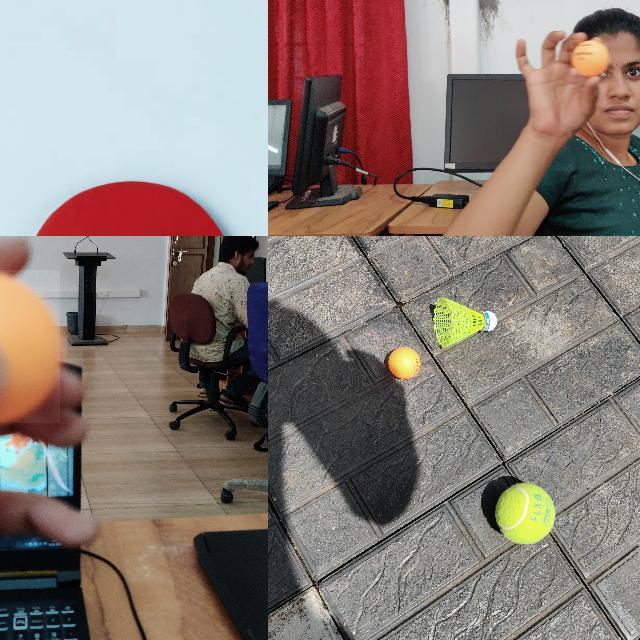ping-pong-ball: (0, 270, 62, 425), (570, 40, 608, 76), (388, 346, 420, 378)
